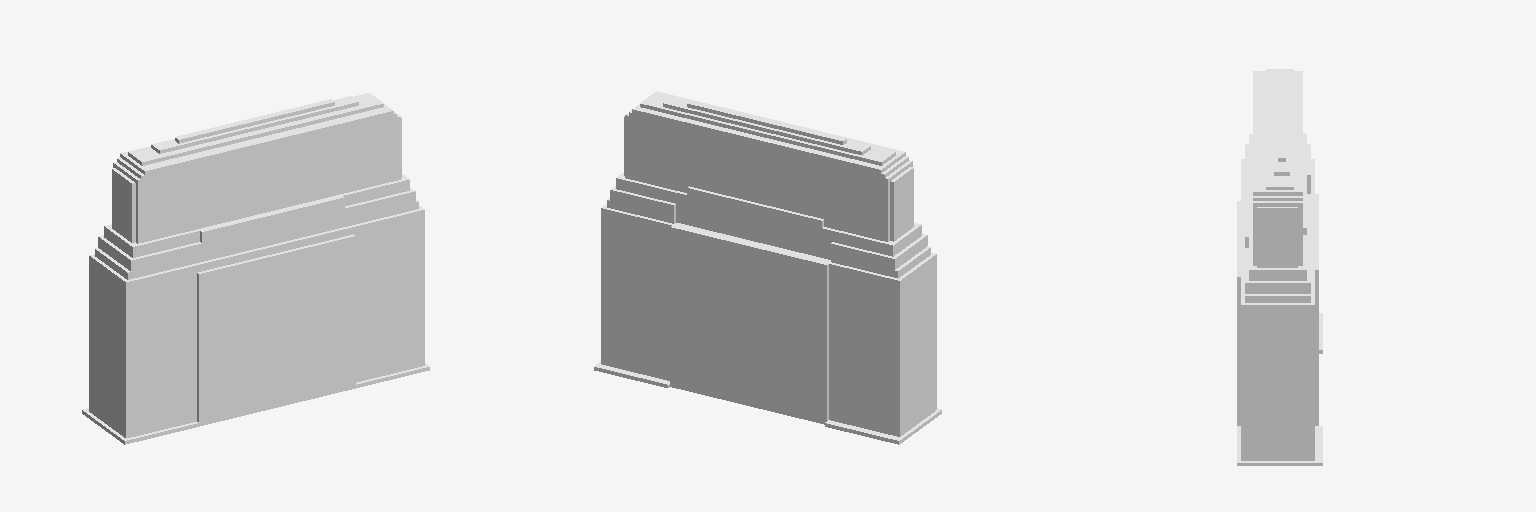
The model's file is Potal_2.obj.
The picture shows the model from 3 angles: view 1: azimuth 30°, elevation 25°; view 2: azimuth 150°, elevation 25°; view 3: azimuth 270°, elevation 25°; orthographic projection.
Visible parts, largest first — view 1: object 1; view 2: object 1; view 3: object 1.
Boxes of the visible parts, box(x1,y1,x2,y2) form: object 1: box(82, 93, 429, 444); object 1: box(594, 91, 941, 444); object 1: box(1237, 69, 1322, 465).
Bounding box in the file's own units: 8.6 × 7.3 × 2.1.